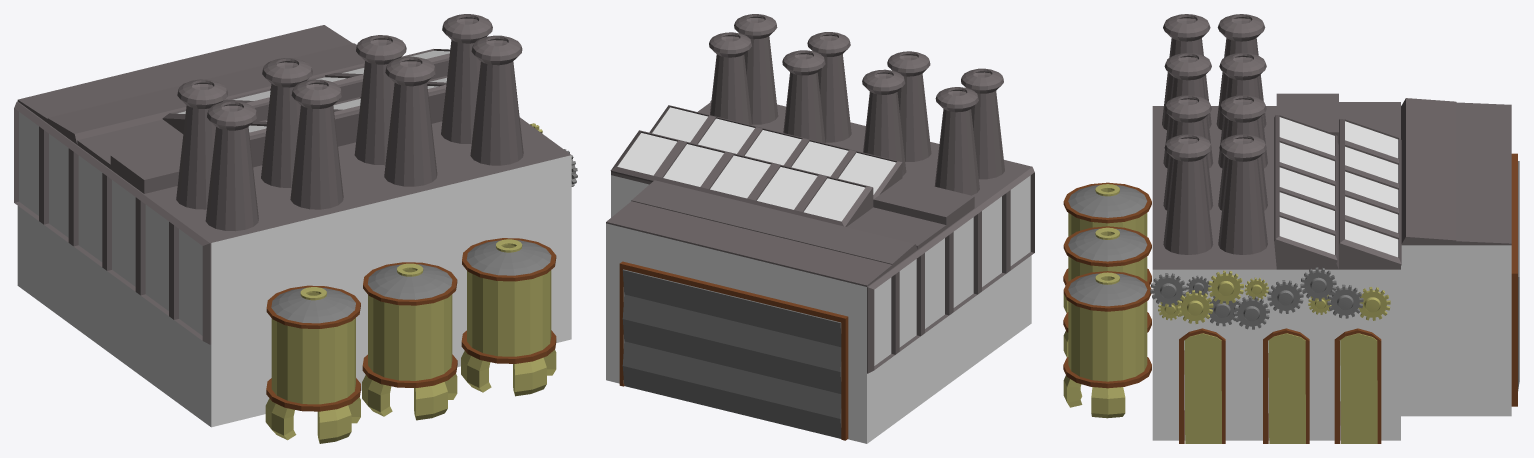
File: fabrica(contecho) 2.fbx
3 renders of one model, left to right at view 1: azimuth 30°, elevation 25°; view 2: azimuth 150°, elevation 25°; view 3: azimuth 270°, elevation 25°, orthographic. The views are drawn at different scales.
Visible parts, largest first — view 1: Cube; view 2: Cube; view 3: Cube.
Boxes of the visible parts, box(x1,y1,x2,y2) form: Cube: box(14, 14, 577, 443); Cube: box(606, 14, 1034, 443); Cube: box(1063, 14, 1519, 443).
Size of the model in its own units: 5841 by 4397 by 6555.
